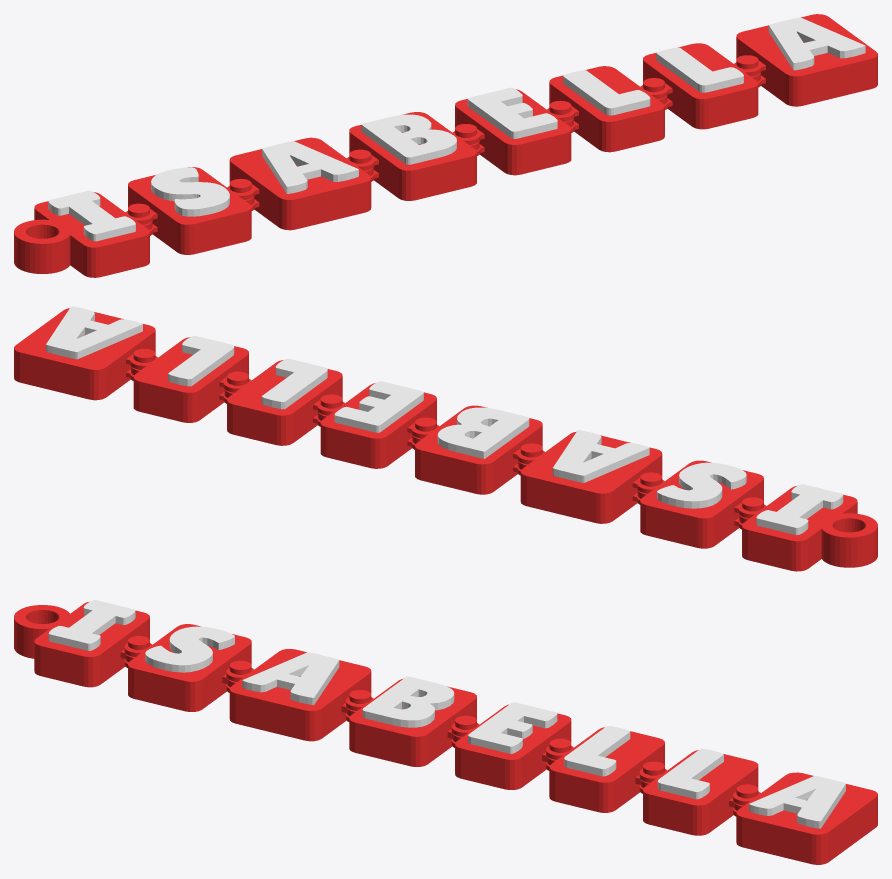
File: isabella-articulated-name.glb
3 views of the same model, one above another, from view 1: azimuth 30°, elevation 25°; view 2: azimuth 150°, elevation 25°; view 3: azimuth 330°, elevation 25° (orthographic).
Parts seen in each view (by area): view 1: Base, Text; view 2: Base, Text; view 3: Base, Text.
Boxes of the visible parts, left/top/right/bottom form: Base: left=14, top=14, right=877, bottom=277; Text: left=48, top=17, right=865, bottom=241; Base: left=14, top=308, right=877, bottom=571; Text: left=46, top=306, right=843, bottom=535; Base: left=14, top=601, right=877, bottom=864; Text: left=48, top=600, right=845, bottom=828.
Bounding box in the file's own units: 0.1444 × 0.0062 × 0.018.
